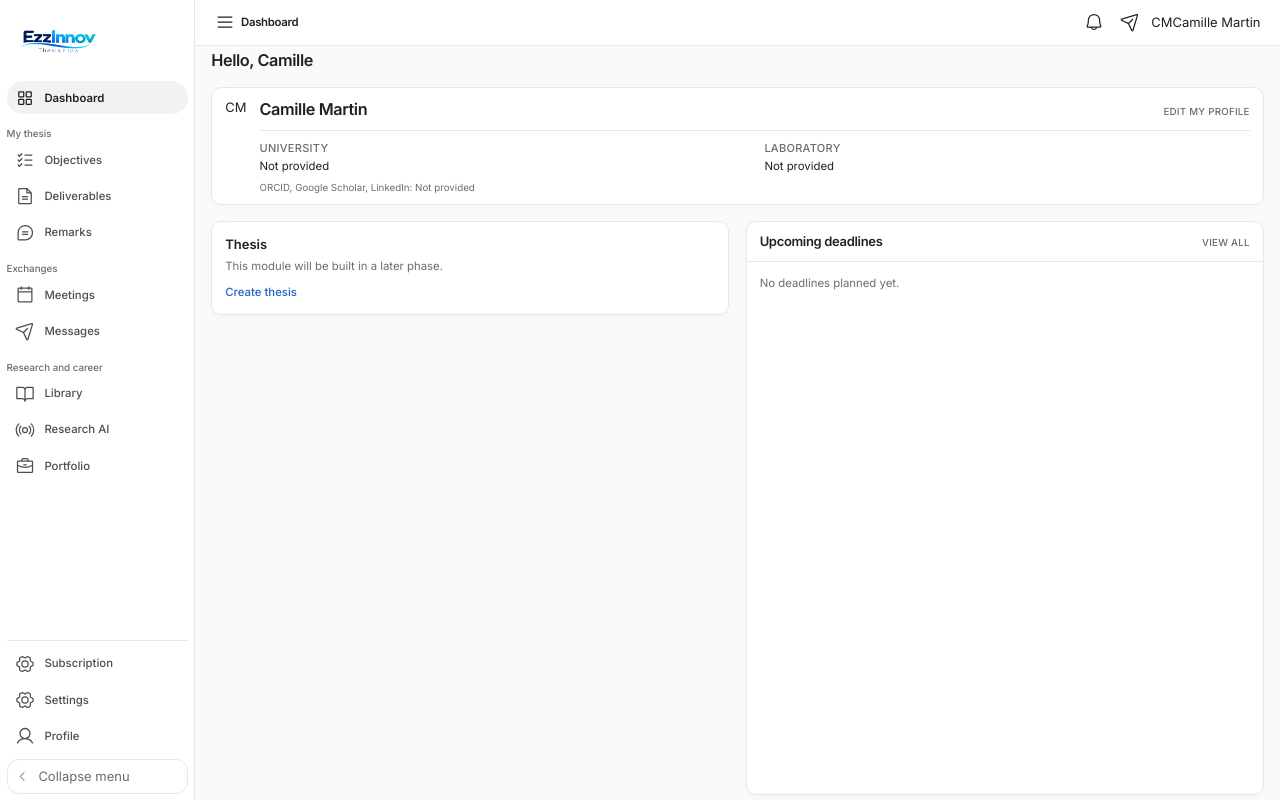
it: application shell › shows the dashboard and navigates to a module
Expected: the heading "Hello, Camille" is shown, top-left (211, 50), bottom-right (313, 70)
Click the link "Objectives" at (58, 160), box top-left (15, 150), bottom-right (102, 170)
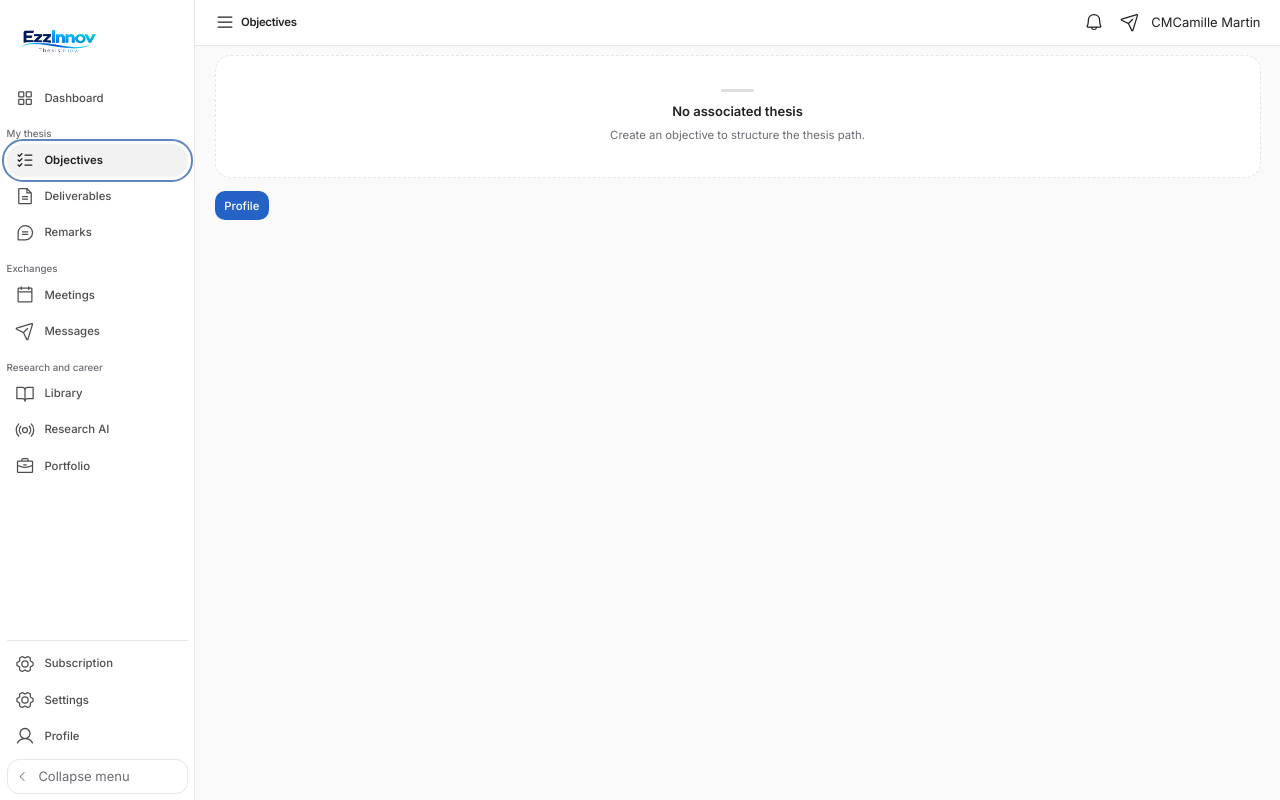
Result: the heading "No associated thesis" is shown at top-left (672, 103), bottom-right (803, 119)
